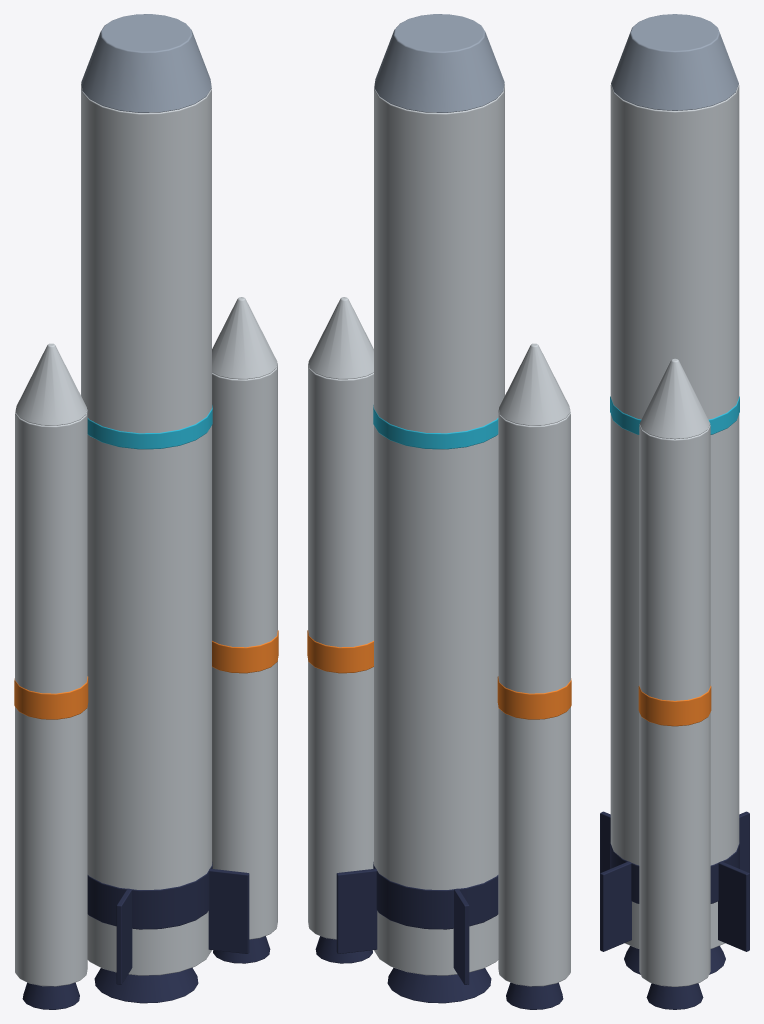
File: cohetes.glb
3 renders of one model, left to right at view 1: azimuth 30°, elevation 25°; view 2: azimuth 150°, elevation 25°; view 3: azimuth 270°, elevation 25°, orthographic. The views are drawn at different scales.
Visible parts, largest first — view 1: cohete_pesado_cuerpo, cohete_pesado, cohete_pesado_adaptador, cohete_pesado_franja_baja, cohete_mediano, cohete_chico, cohete_pesado_tobera, cohete_pesado_franja_alta; view 2: cohete_pesado_cuerpo, cohete_pesado, cohete_pesado_adaptador, cohete_pesado_franja_baja, cohete_mediano, cohete_chico, cohete_pesado_tobera, cohete_pesado_franja_alta; view 3: cohete_pesado_cuerpo, cohete_pesado, cohete_pesado_adaptador, cohete_mediano, cohete_chico, cohete_pesado_franja_baja, cohete_pesado_franja_alta, cohete_pesado_tobera.
Part boxes in pixels (x1,y1,x2,y2): cohete_pesado_cuerpo: (81,83,211,975); cohete_pesado: (14,297,278,1009); cohete_pesado_adaptador: (81,14,211,112); cohete_pesado_franja_baja: (87,862,212,929); cohete_mediano: (116,868,249,984); cohete_chico: (123,869,237,978); cohete_pesado_tobera: (94,967,198,1003); cohete_pesado_franja_alta: (87,405,212,449); cohete_pesado_cuerpo: (374,83,504,975); cohete_pesado: (307,297,571,1009); cohete_pesado_adaptador: (374,14,504,112); cohete_pesado_franja_baja: (373,862,498,929); cohete_mediano: (336,868,469,984); cohete_chico: (348,869,461,979); cohete_pesado_tobera: (387,967,491,1003); cohete_pesado_franja_alta: (373,405,498,449); cohete_pesado_cuerpo: (610,84,739,948); cohete_pesado: (638,358,711,1009); cohete_pesado_adaptador: (611,14,738,110); cohete_mediano: (600,811,749,951); cohete_chico: (608,816,741,948); cohete_pesado_franja_baja: (610,842,739,903); cohete_pesado_franja_alta: (610,396,739,434); cohete_pesado_tobera: (624,946,725,974).
Bounding box in the file's own units: 8.04 × 28.6 × 4.18.
